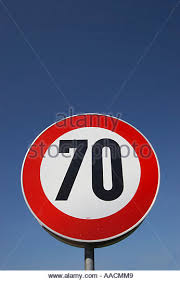Speed_limit_70km: (21, 113, 160, 242)
